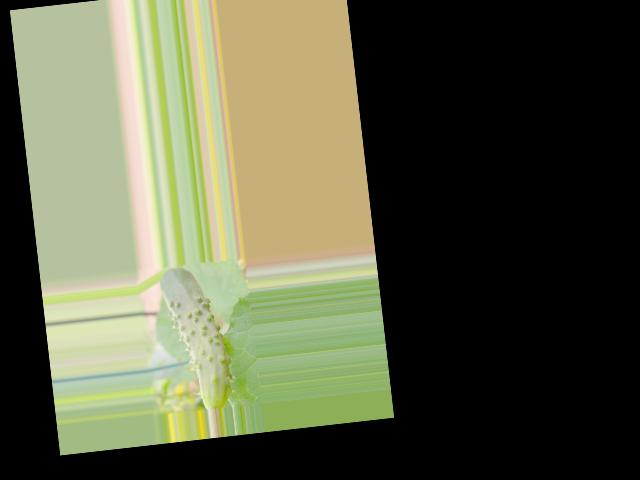cucumber: (158, 262, 236, 413)
